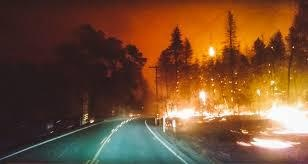fire: (169, 77, 308, 130)
